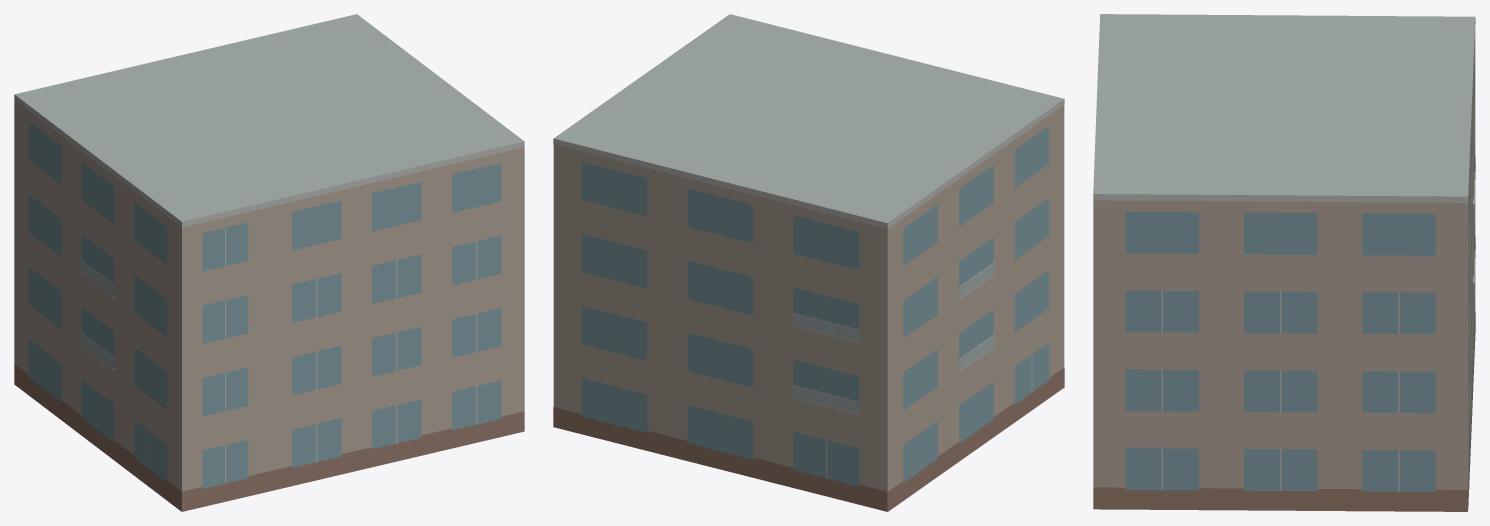
The model's file is residential-fda67645-8e04-40dc-ba9c-fd4ce2023c25.glb.
3 views of the same model, side by side, from view 1: azimuth 30°, elevation 25°; view 2: azimuth 150°, elevation 25°; view 3: azimuth 270°, elevation 25° (orthographic). The views are drawn at different scales.
Parts seen in each view (by area): view 1: residential-fda67645-8e04-40dc-ba9c-fd4ce2023c25.tmp; view 2: residential-fda67645-8e04-40dc-ba9c-fd4ce2023c25.tmp; view 3: residential-fda67645-8e04-40dc-ba9c-fd4ce2023c25.tmp.
Boxes of the visible parts, box(x1,y1,x2,y2) form: residential-fda67645-8e04-40dc-ba9c-fd4ce2023c25.tmp: box(14, 14, 524, 511); residential-fda67645-8e04-40dc-ba9c-fd4ce2023c25.tmp: box(553, 14, 1064, 511); residential-fda67645-8e04-40dc-ba9c-fd4ce2023c25.tmp: box(1093, 14, 1475, 511).
Bounding box in the file's own units: 15.17 × 12.2 × 13.43.
